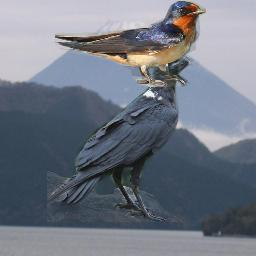Crow: (47, 53, 194, 222)
Swallow: (55, 1, 206, 87)
